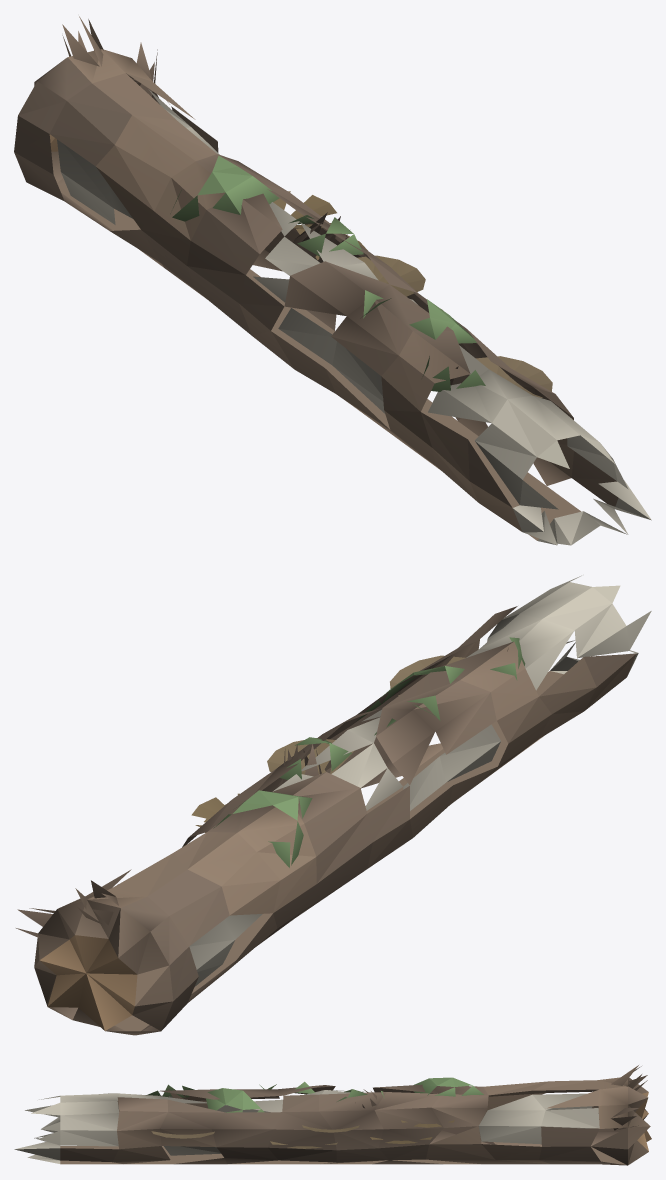
Rendered from fungus.lod.glb.
The picture shows the model from 3 angles, top to bottom: view 1: azimuth 30°, elevation 25°; view 2: azimuth 150°, elevation 25°; view 3: azimuth 270°, elevation 25°; orthographic projection. The views are drawn at different scales.
Visible parts, largest first — view 1: fungus; view 2: fungus; view 3: fungus.
Part boxes in pixels (x1,y1,x2,y2): fungus: [14, 16, 651, 545]; fungus: [16, 575, 651, 1035]; fungus: [14, 1065, 651, 1165].
Bounding box in the file's own units: 1.13 × 1.1 × 6.96.
